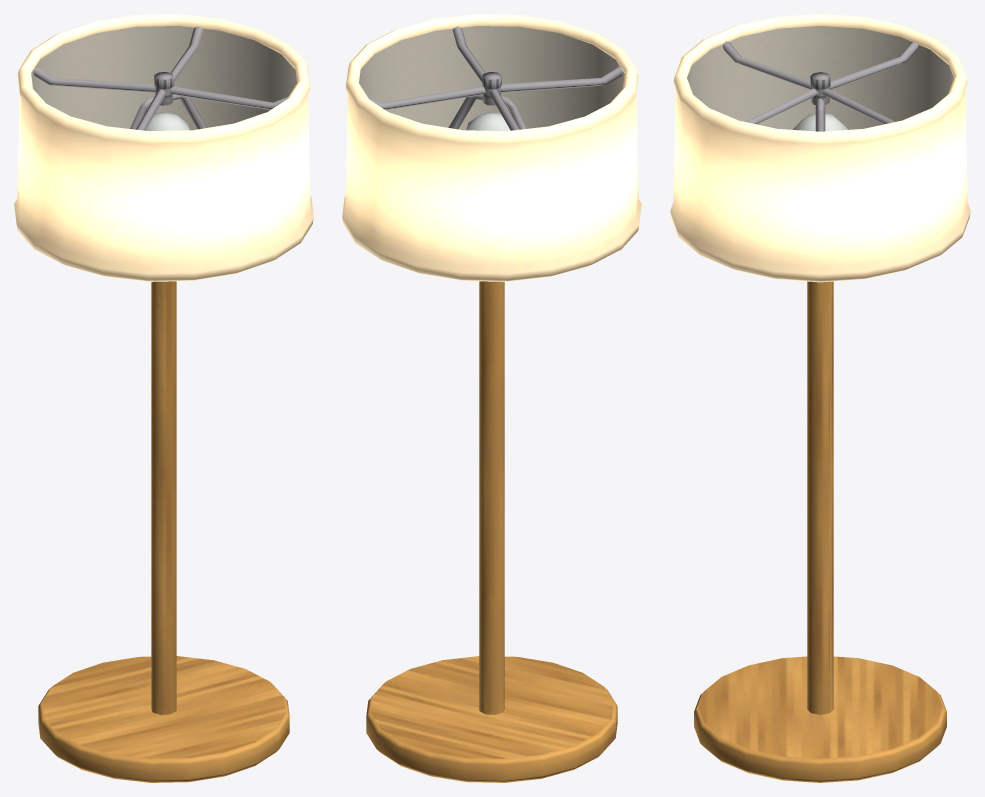
Rendered from floor-lamp.glb.
3 views of the same model, side by side, from view 1: azimuth 30°, elevation 25°; view 2: azimuth 150°, elevation 25°; view 3: azimuth 270°, elevation 25° (orthographic).
Parts seen in each view (by area): view 1: pCylinder11__mReBody-mesh, polySurface4__mReFabric-mesh; view 2: pCylinder11__mReBody-mesh, polySurface4__mReFabric-mesh; view 3: pCylinder11__mReBody-mesh, polySurface4__mReFabric-mesh.
Part boxes in pixels (box(x1,y1,x2,y2)): pCylinder11__mReBody-mesh: box(31, 26, 296, 782); polySurface4__mReFabric-mesh: box(14, 14, 313, 281); pCylinder11__mReBody-mesh: box(359, 26, 624, 782); polySurface4__mReFabric-mesh: box(342, 14, 641, 281); pCylinder11__mReBody-mesh: box(687, 26, 953, 782); polySurface4__mReFabric-mesh: box(670, 14, 970, 282).
Size of the model in its own units: 6.27 by 15.12 by 6.25.
Materials: 2 (2 with a texture image).
